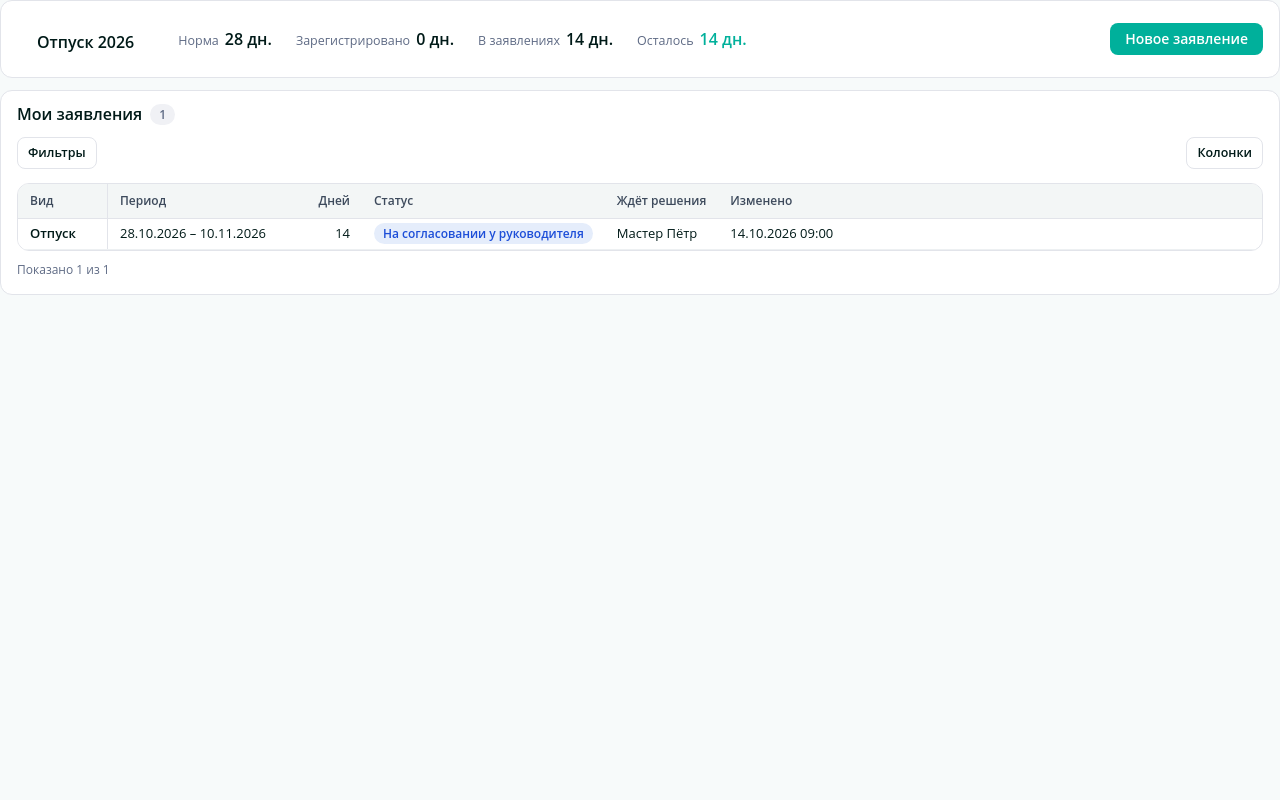
shows the signatures with method and version, and the server's refusal in Russian
Click the text "Мастер Пётр" at (657, 234), box [617,225,697,243]
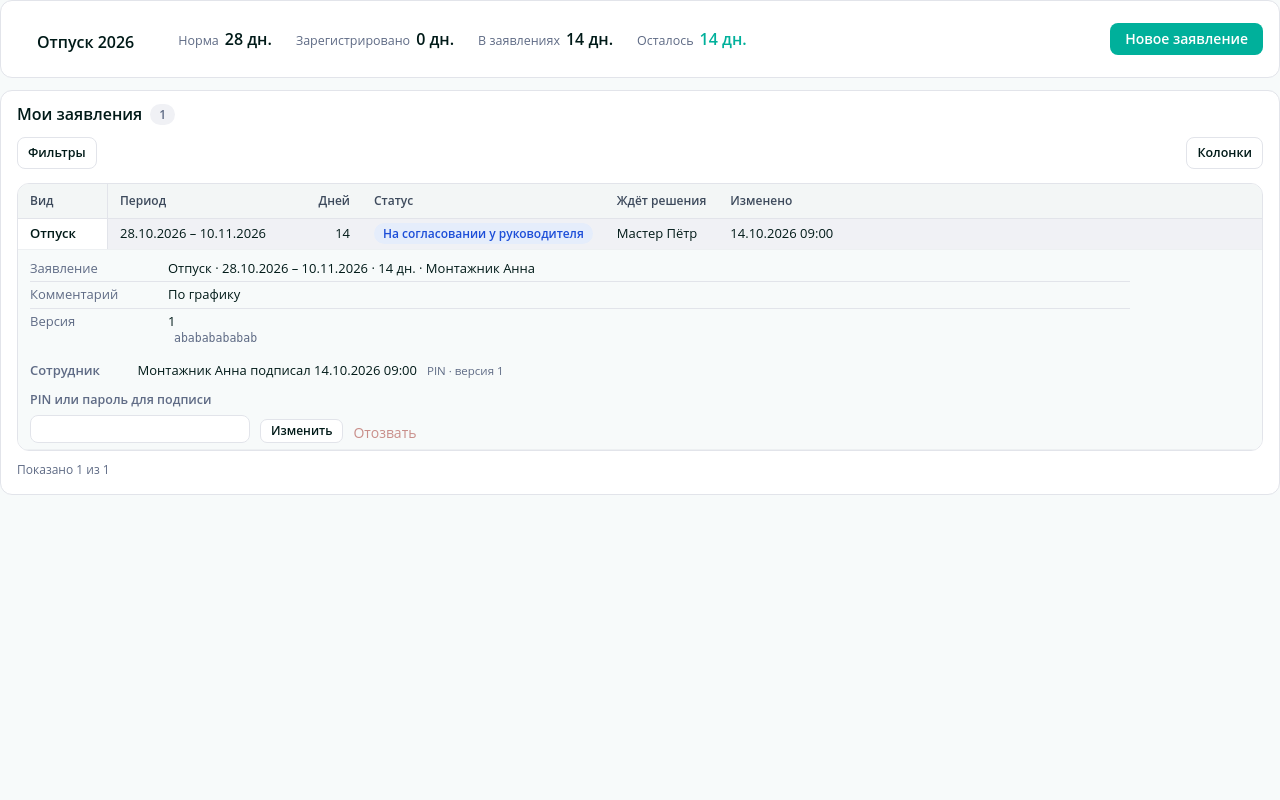
Check: the list named "Подписи" shows "Сотрудник", box [30,361,100,379]
Check: the list named "Подписи" shows "Монтажник Анна подписал", box [30,361,504,379]
Check: the list named "Подписи" shows "PIN · версия 1", box [30,361,504,379]
Type "000000" into the password field labelled "PIN или пароль для подписи" at (140, 429), box [30,415,250,443]
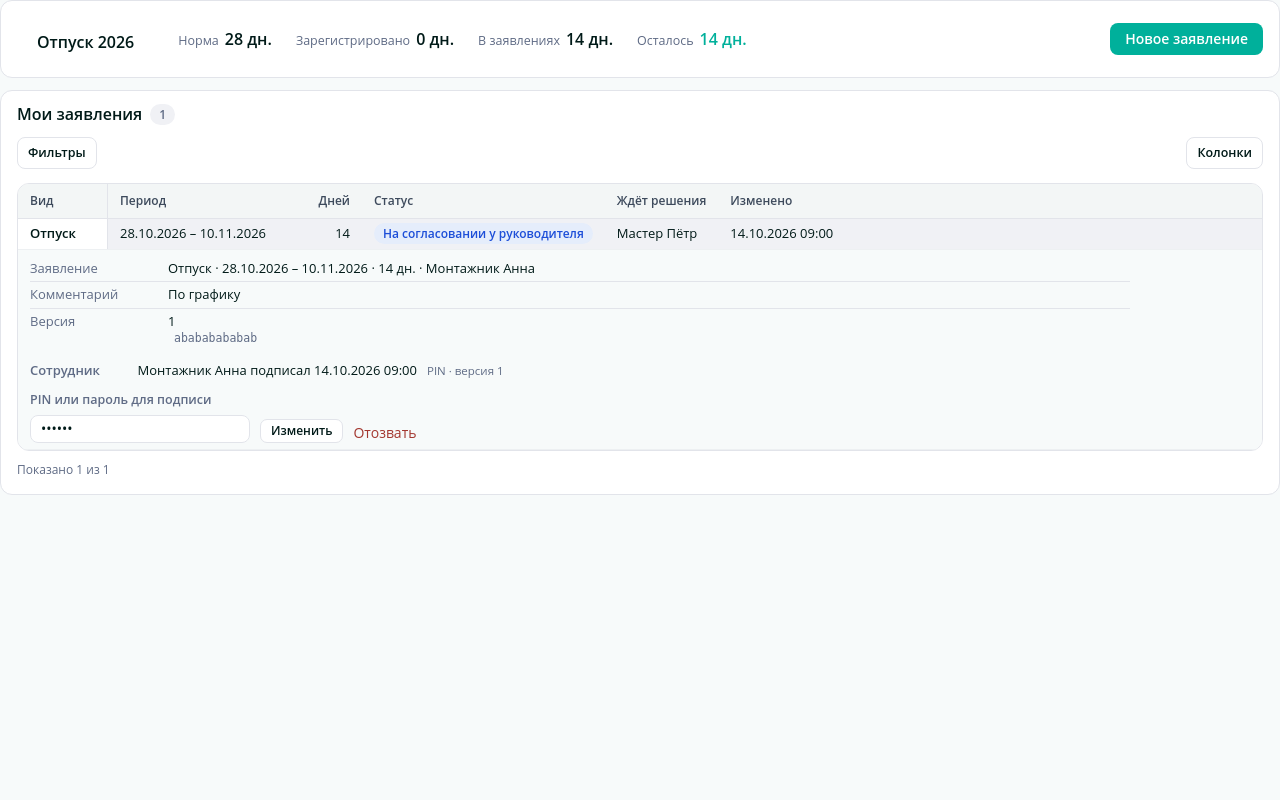
Click the button "Отозвать" at (385, 429), box [353,416,416,443]
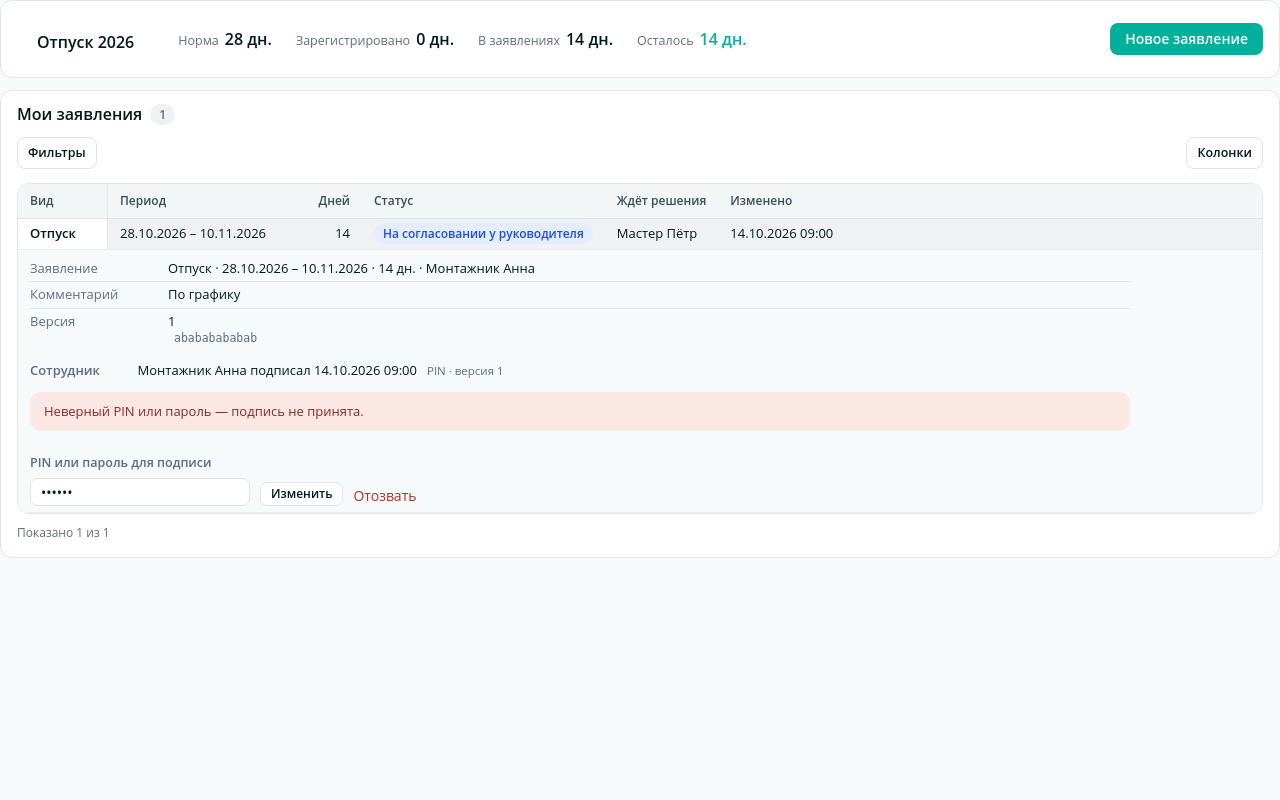
Check: the message reads "Неверный PIN или пароль — подпись не принята.", box [44,402,364,420]
